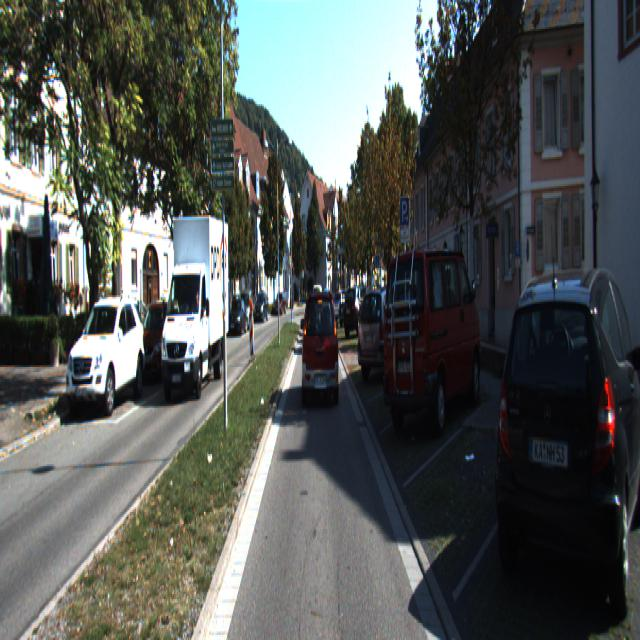Car: (494, 258, 640, 638), (381, 244, 485, 444), (159, 220, 230, 401), (67, 297, 147, 415), (358, 286, 422, 381), (303, 294, 340, 409), (537, 309, 607, 369), (136, 302, 185, 386), (97, 307, 135, 376), (342, 286, 380, 337), (177, 310, 210, 364), (338, 289, 363, 329), (226, 298, 248, 337), (238, 290, 254, 331), (254, 294, 269, 324)
